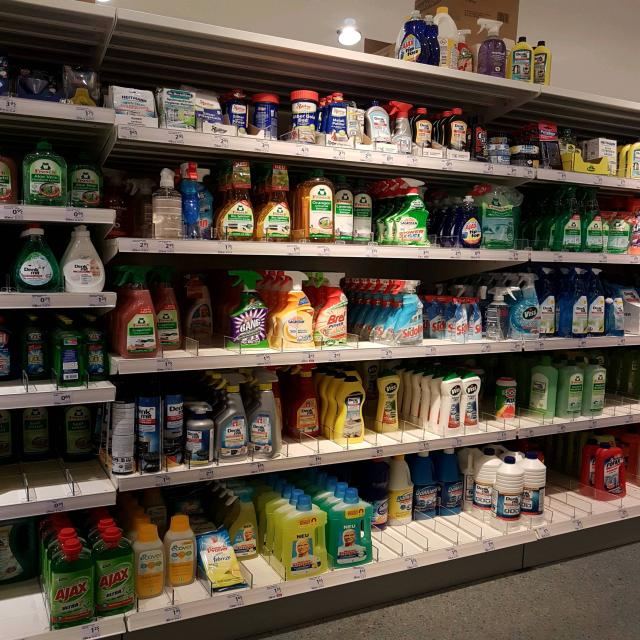void: (184, 264, 228, 368), (552, 450, 594, 536), (362, 266, 391, 358), (363, 0, 398, 64), (325, 0, 361, 59), (609, 40, 640, 104), (578, 40, 608, 106), (612, 354, 640, 424), (250, 0, 289, 42), (554, 36, 578, 101), (289, 0, 321, 48), (213, 0, 248, 38)
